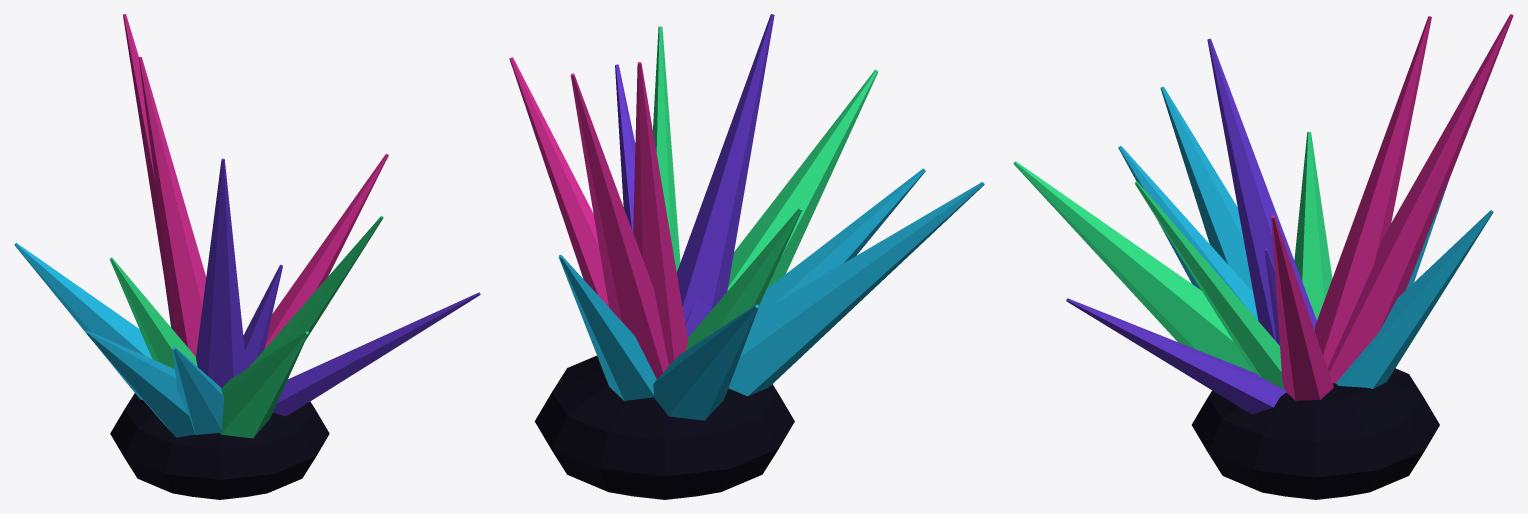
The model's file is crystal_cluster.glb.
The picture shows the model from 3 angles, left to right: view 1: azimuth 30°, elevation 25°; view 2: azimuth 150°, elevation 25°; view 3: azimuth 270°, elevation 25°; orthographic projection. The views are drawn at different scales.
Parts seen in each view (by area): view 1: crystal_cluster; view 2: crystal_cluster; view 3: crystal_cluster.
Part boxes in pixels (x1,y1,x2,y2): crystal_cluster: [14, 14, 480, 499]; crystal_cluster: [509, 14, 984, 499]; crystal_cluster: [1013, 14, 1513, 499].
Size of the model in its own units: 1.14 by 1.26 by 1.24.
